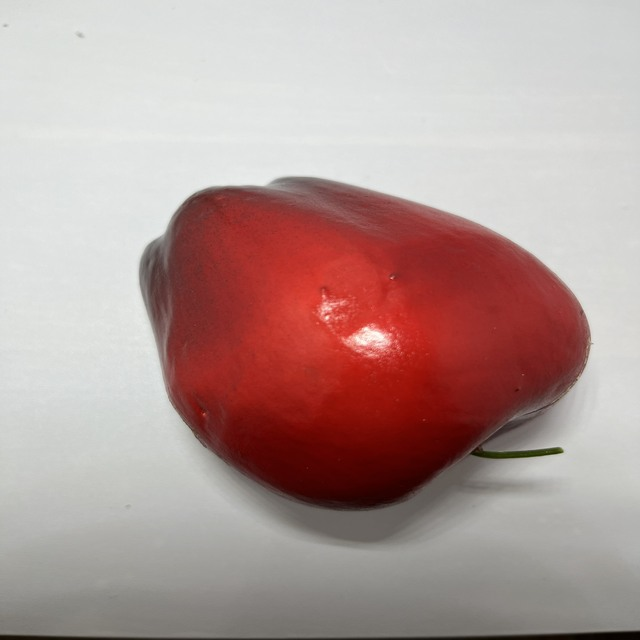Tao: (140, 171, 595, 521)
